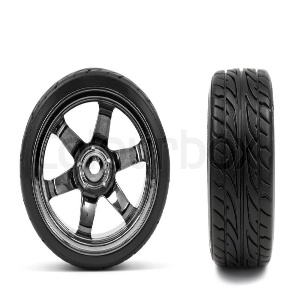tire: (21, 66, 170, 269), (207, 67, 274, 276)
